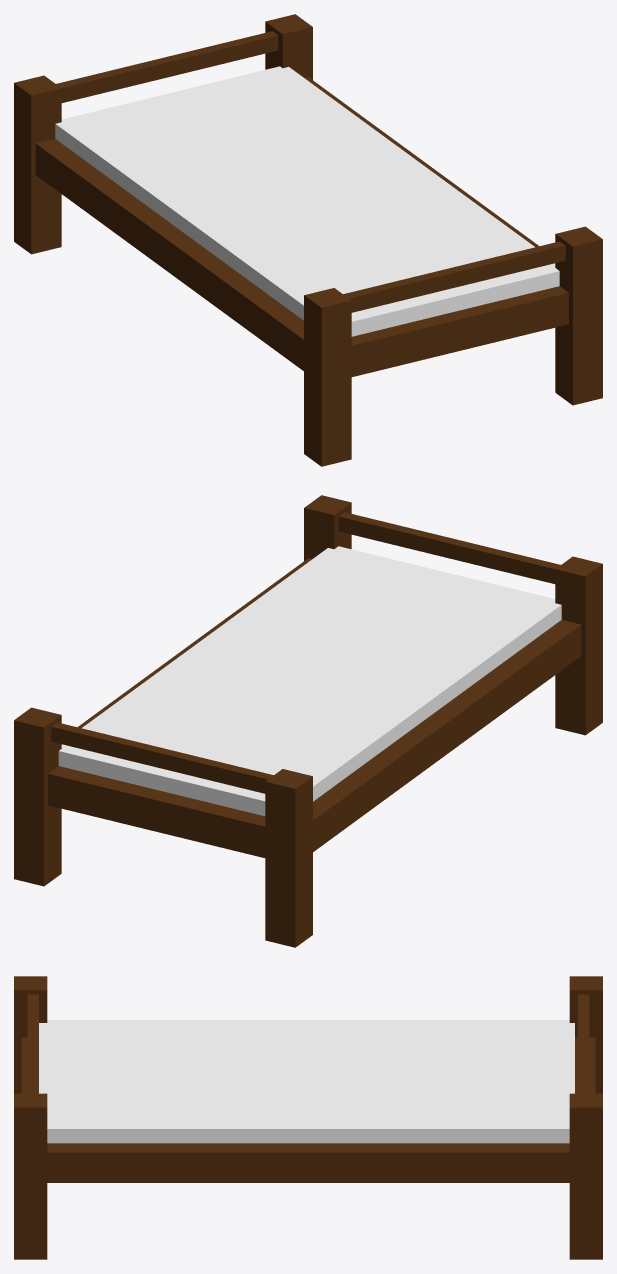
Rendered from MBS_Bed.fbx.
3 views of the same model, one above another, from view 1: azimuth 30°, elevation 25°; view 2: azimuth 150°, elevation 25°; view 3: azimuth 270°, elevation 25° (orthographic). The views are drawn at different scales.
Parts seen in each view (by area): view 1: MBS_City_Bed.001; view 2: MBS_City_Bed.001; view 3: MBS_City_Bed.001.
Part boxes in pixels (x1=…): MBS_City_Bed.001: x1=14, y1=14, x2=602, y2=466; MBS_City_Bed.001: x1=14, y1=495, x2=602, y2=947; MBS_City_Bed.001: x1=14, y1=976, x2=602, y2=1259.
Size of the model in its own units: 179 by 96.67 by 339.
